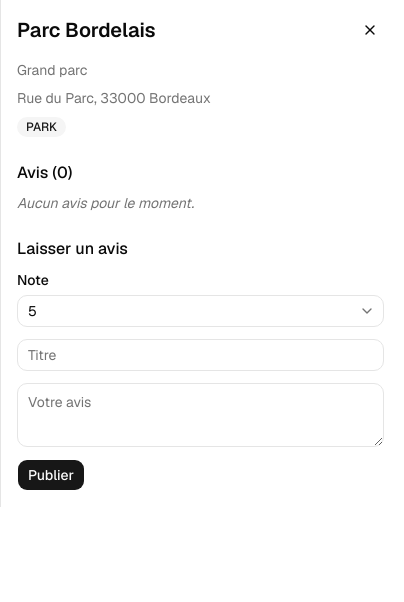
it: LocationDetailPanel › submits a new review and prepends it to the list
Expected: the heading "Parc Bordelais" is shown, [17,16,156,44]
Type "Top" into the field with placeholder "Titre". click: [200, 355]
box: [17,339,384,371]
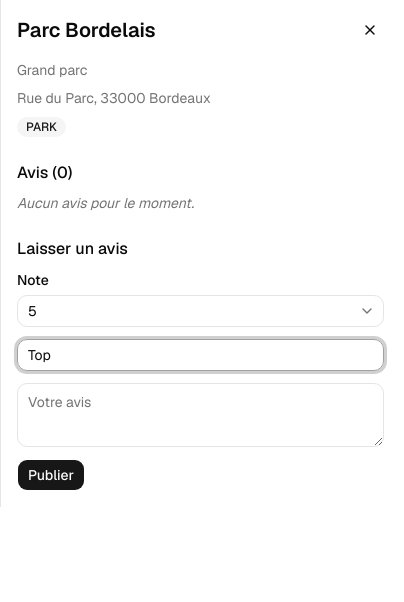
Type "Parfait" into the text box with placeholder "Votre avis". click: [200, 415]
box: [17,383,384,447]
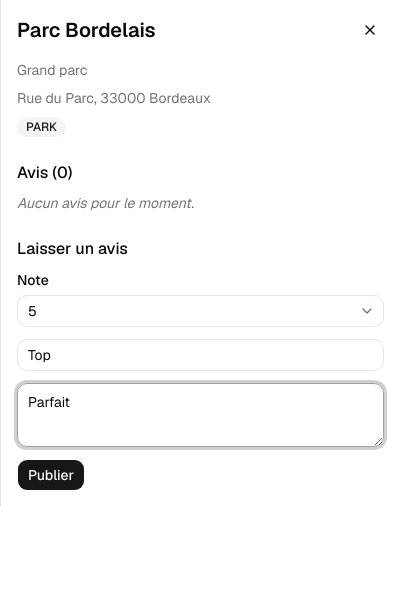
Click the button "Publier". click: [51, 475]
box: [17,459,85,491]
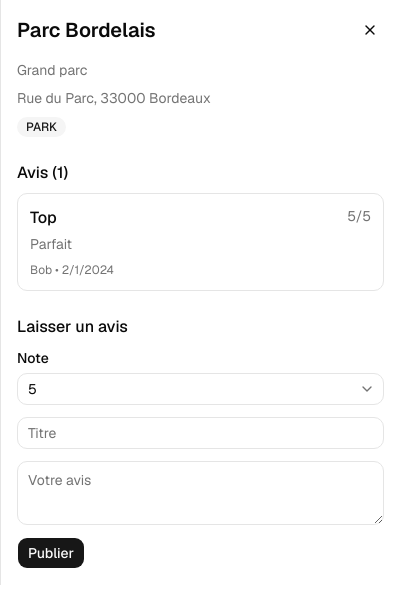
Expected: the text "Top" is shown, [30,206,57,230]
